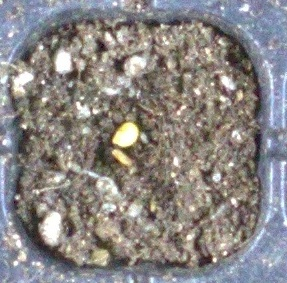chilli seed: (110, 121, 140, 148)
